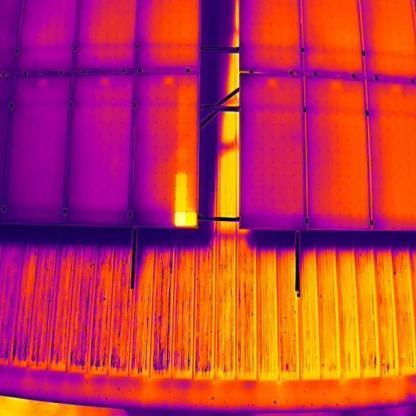anomaly: (172, 172, 199, 227)
